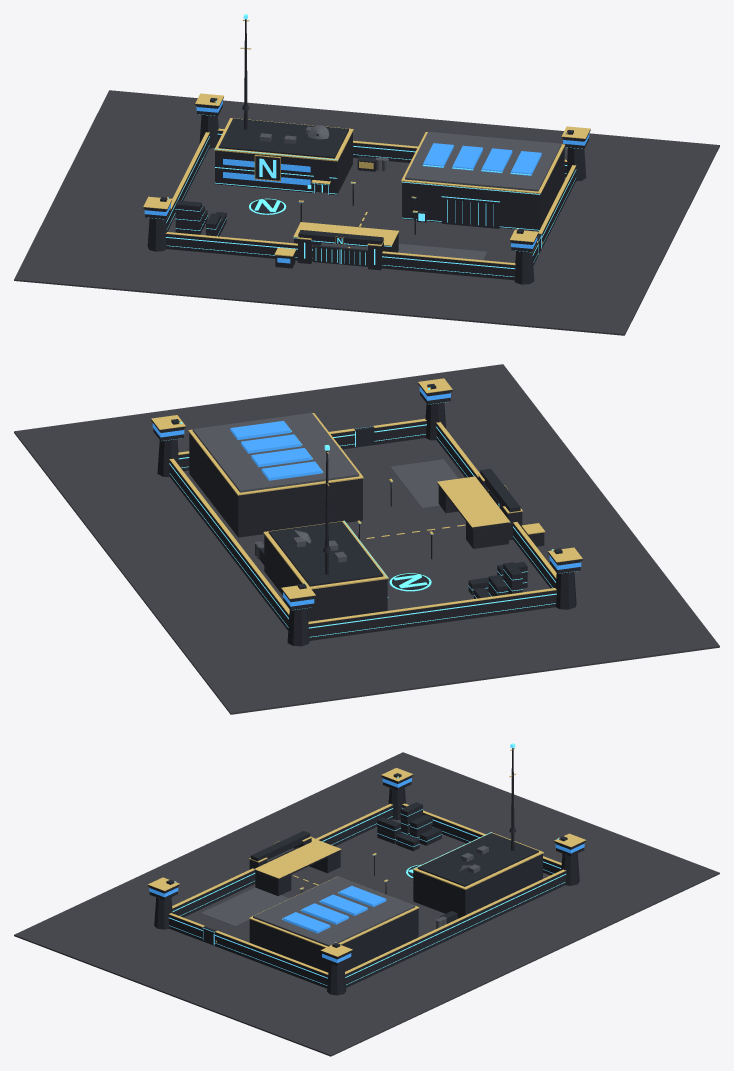
File: neantis-base.glb
3 renders of one model, top to bottom at view 1: azimuth 30°, elevation 25°; view 2: azimuth 150°, elevation 25°; view 3: azimuth 270°, elevation 25°, orthographic. The views are drawn at different scales.
Parts seen in each view (by area): view 1: Neantis_Socle, Neantis_Noir, Neantis_Beton, Neantis_Or, Neantis_Verre, Neantis_Bleu; view 2: Neantis_Socle, Neantis_Noir, Neantis_Beton, Neantis_Or, Neantis_Verre, Neantis_Bleu; view 3: Neantis_Socle, Neantis_Noir, Neantis_Beton, Neantis_Or, Neantis_Verre, Neantis_Bleu.
Part boxes in pixels (x1,y1,x2,y2): Neantis_Socle: (14,90,719,335); Neantis_Noir: (143,19,590,284); Neantis_Beton: (259,125,561,260); Neantis_Or: (143,20,590,265); Neantis_Verre: (144,100,589,263); Neantis_Bleu: (148,14,582,276); Neantis_Socle: (14,364,719,714); Neantis_Noir: (151,383,582,646); Neantis_Beton: (192,413,458,562); Neantis_Or: (151,378,582,624); Neantis_Verre: (152,387,581,606); Neantis_Bleu: (163,388,577,637); Neantis_Socle: (14,752,719,1056); Neantis_Noir: (148,748,585,995); Neantis_Beton: (201,845,488,946); Neantis_Or: (147,748,585,974); Neantis_Verre: (149,778,584,962); Neantis_Bleu: (168,743,566,985).
Size of the model in its own units: 220 by 47.89 by 217.
